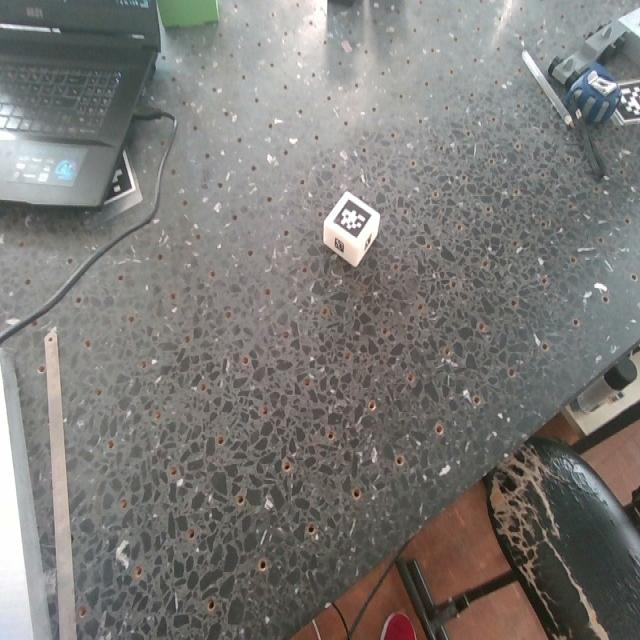Cube: (322, 192, 383, 268)
